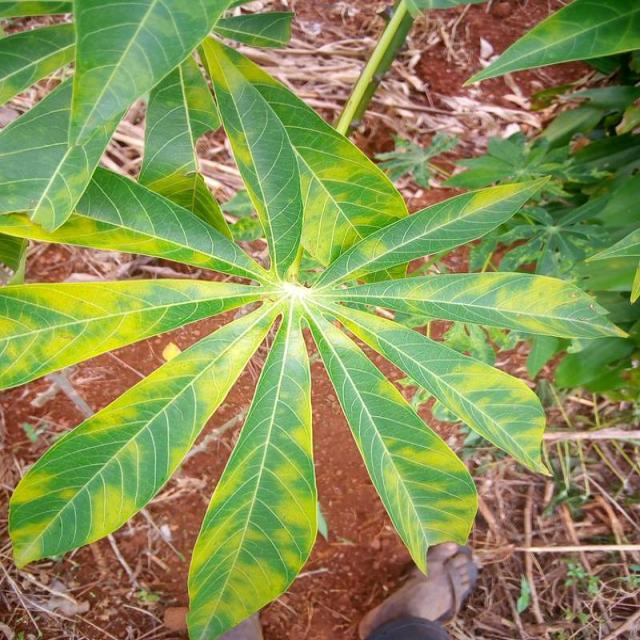cassava leaf: (1, 5, 628, 637), (7, 296, 280, 570), (185, 300, 318, 638)
